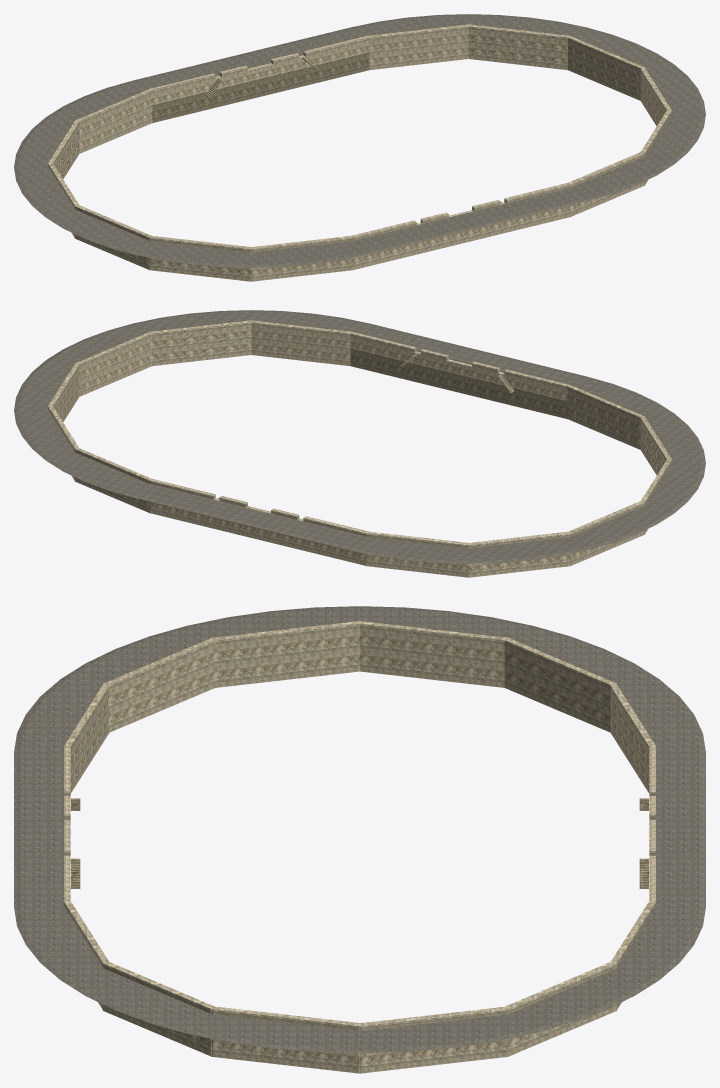
Rendered from bw-quay.gaps-v1.lod0.glb.
The picture shows the model from 3 angles, top to bottom: view 1: azimuth 30°, elevation 25°; view 2: azimuth 150°, elevation 25°; view 3: azimuth 270°, elevation 25°; orthographic projection. The views are drawn at different scales.
Parts seen in each view (by area): view 1: bw-quay; view 2: bw-quay; view 3: bw-quay.
Part boxes in pixels (x1,y1,x2,y2): bw-quay: (14, 14, 705, 281); bw-quay: (14, 310, 705, 577); bw-quay: (14, 606, 705, 1073).
Bounding box in the file's own units: 159 × 7.96 × 104.
2 materials, 2 textured.
